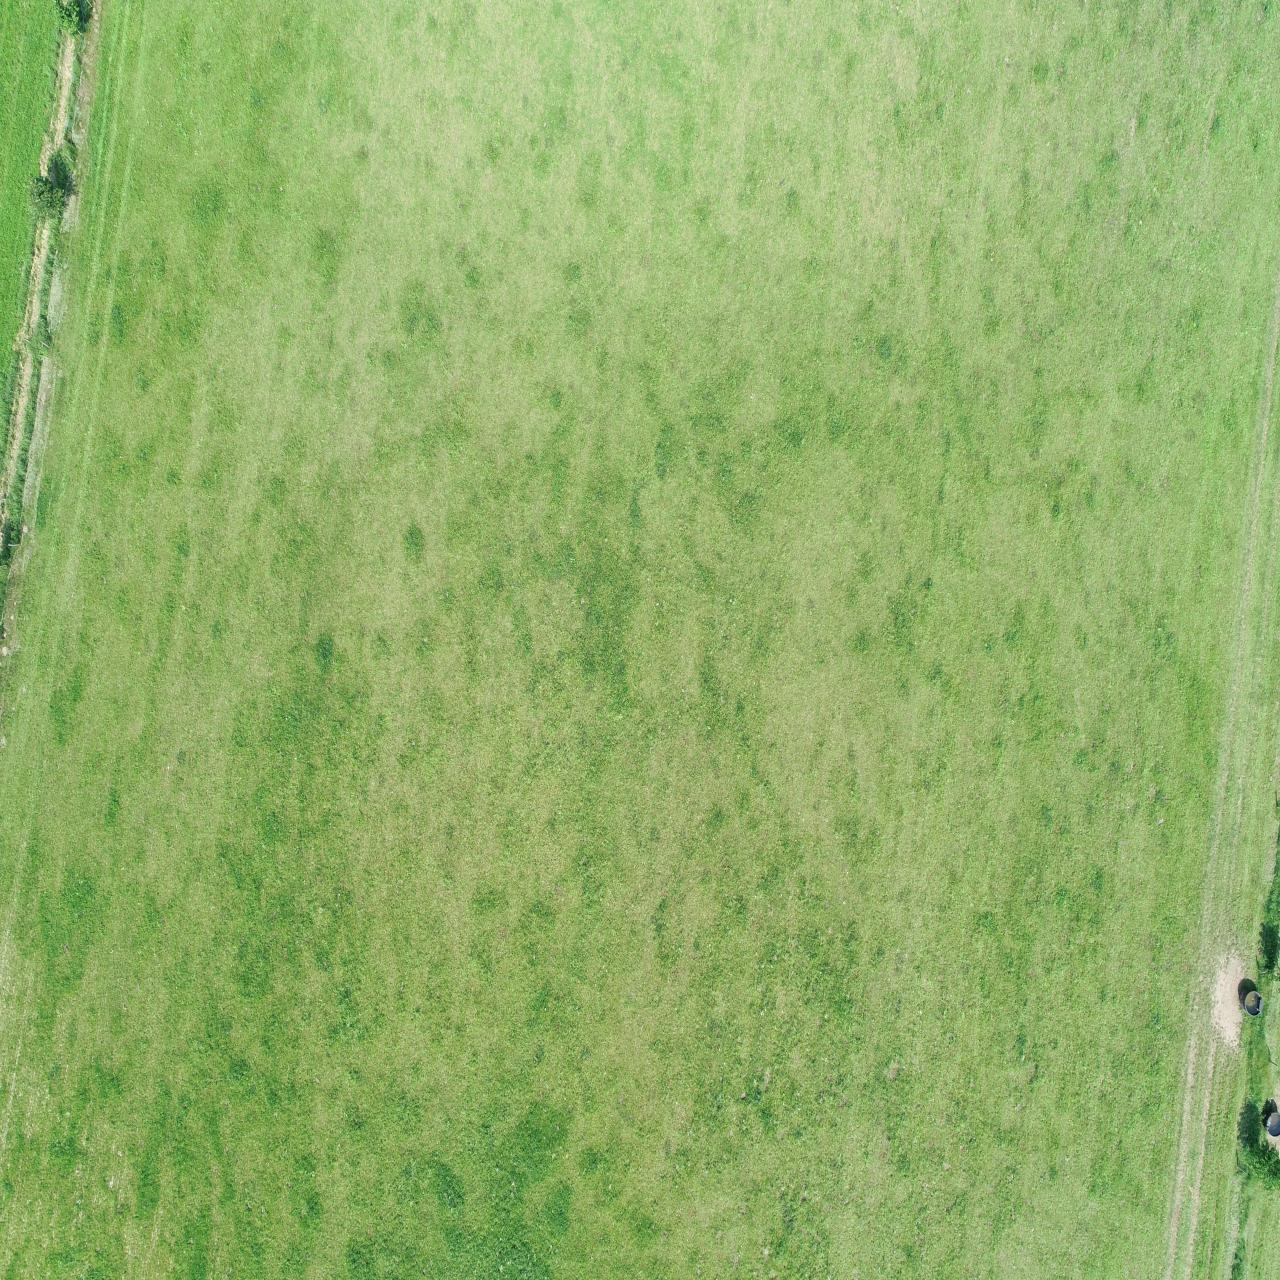cow: (965, 584, 1005, 644), (1109, 403, 1137, 464)
